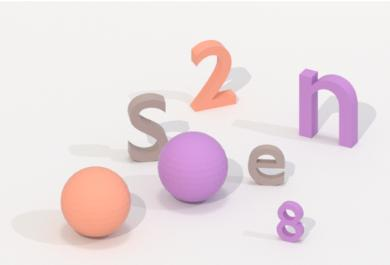0-Tron: (58, 164, 134, 242), (156, 130, 232, 207)
2: (188, 35, 239, 115)
8: (274, 199, 306, 245)
S: (125, 89, 170, 165)
e: (245, 140, 287, 190)
n: (294, 66, 360, 150)
